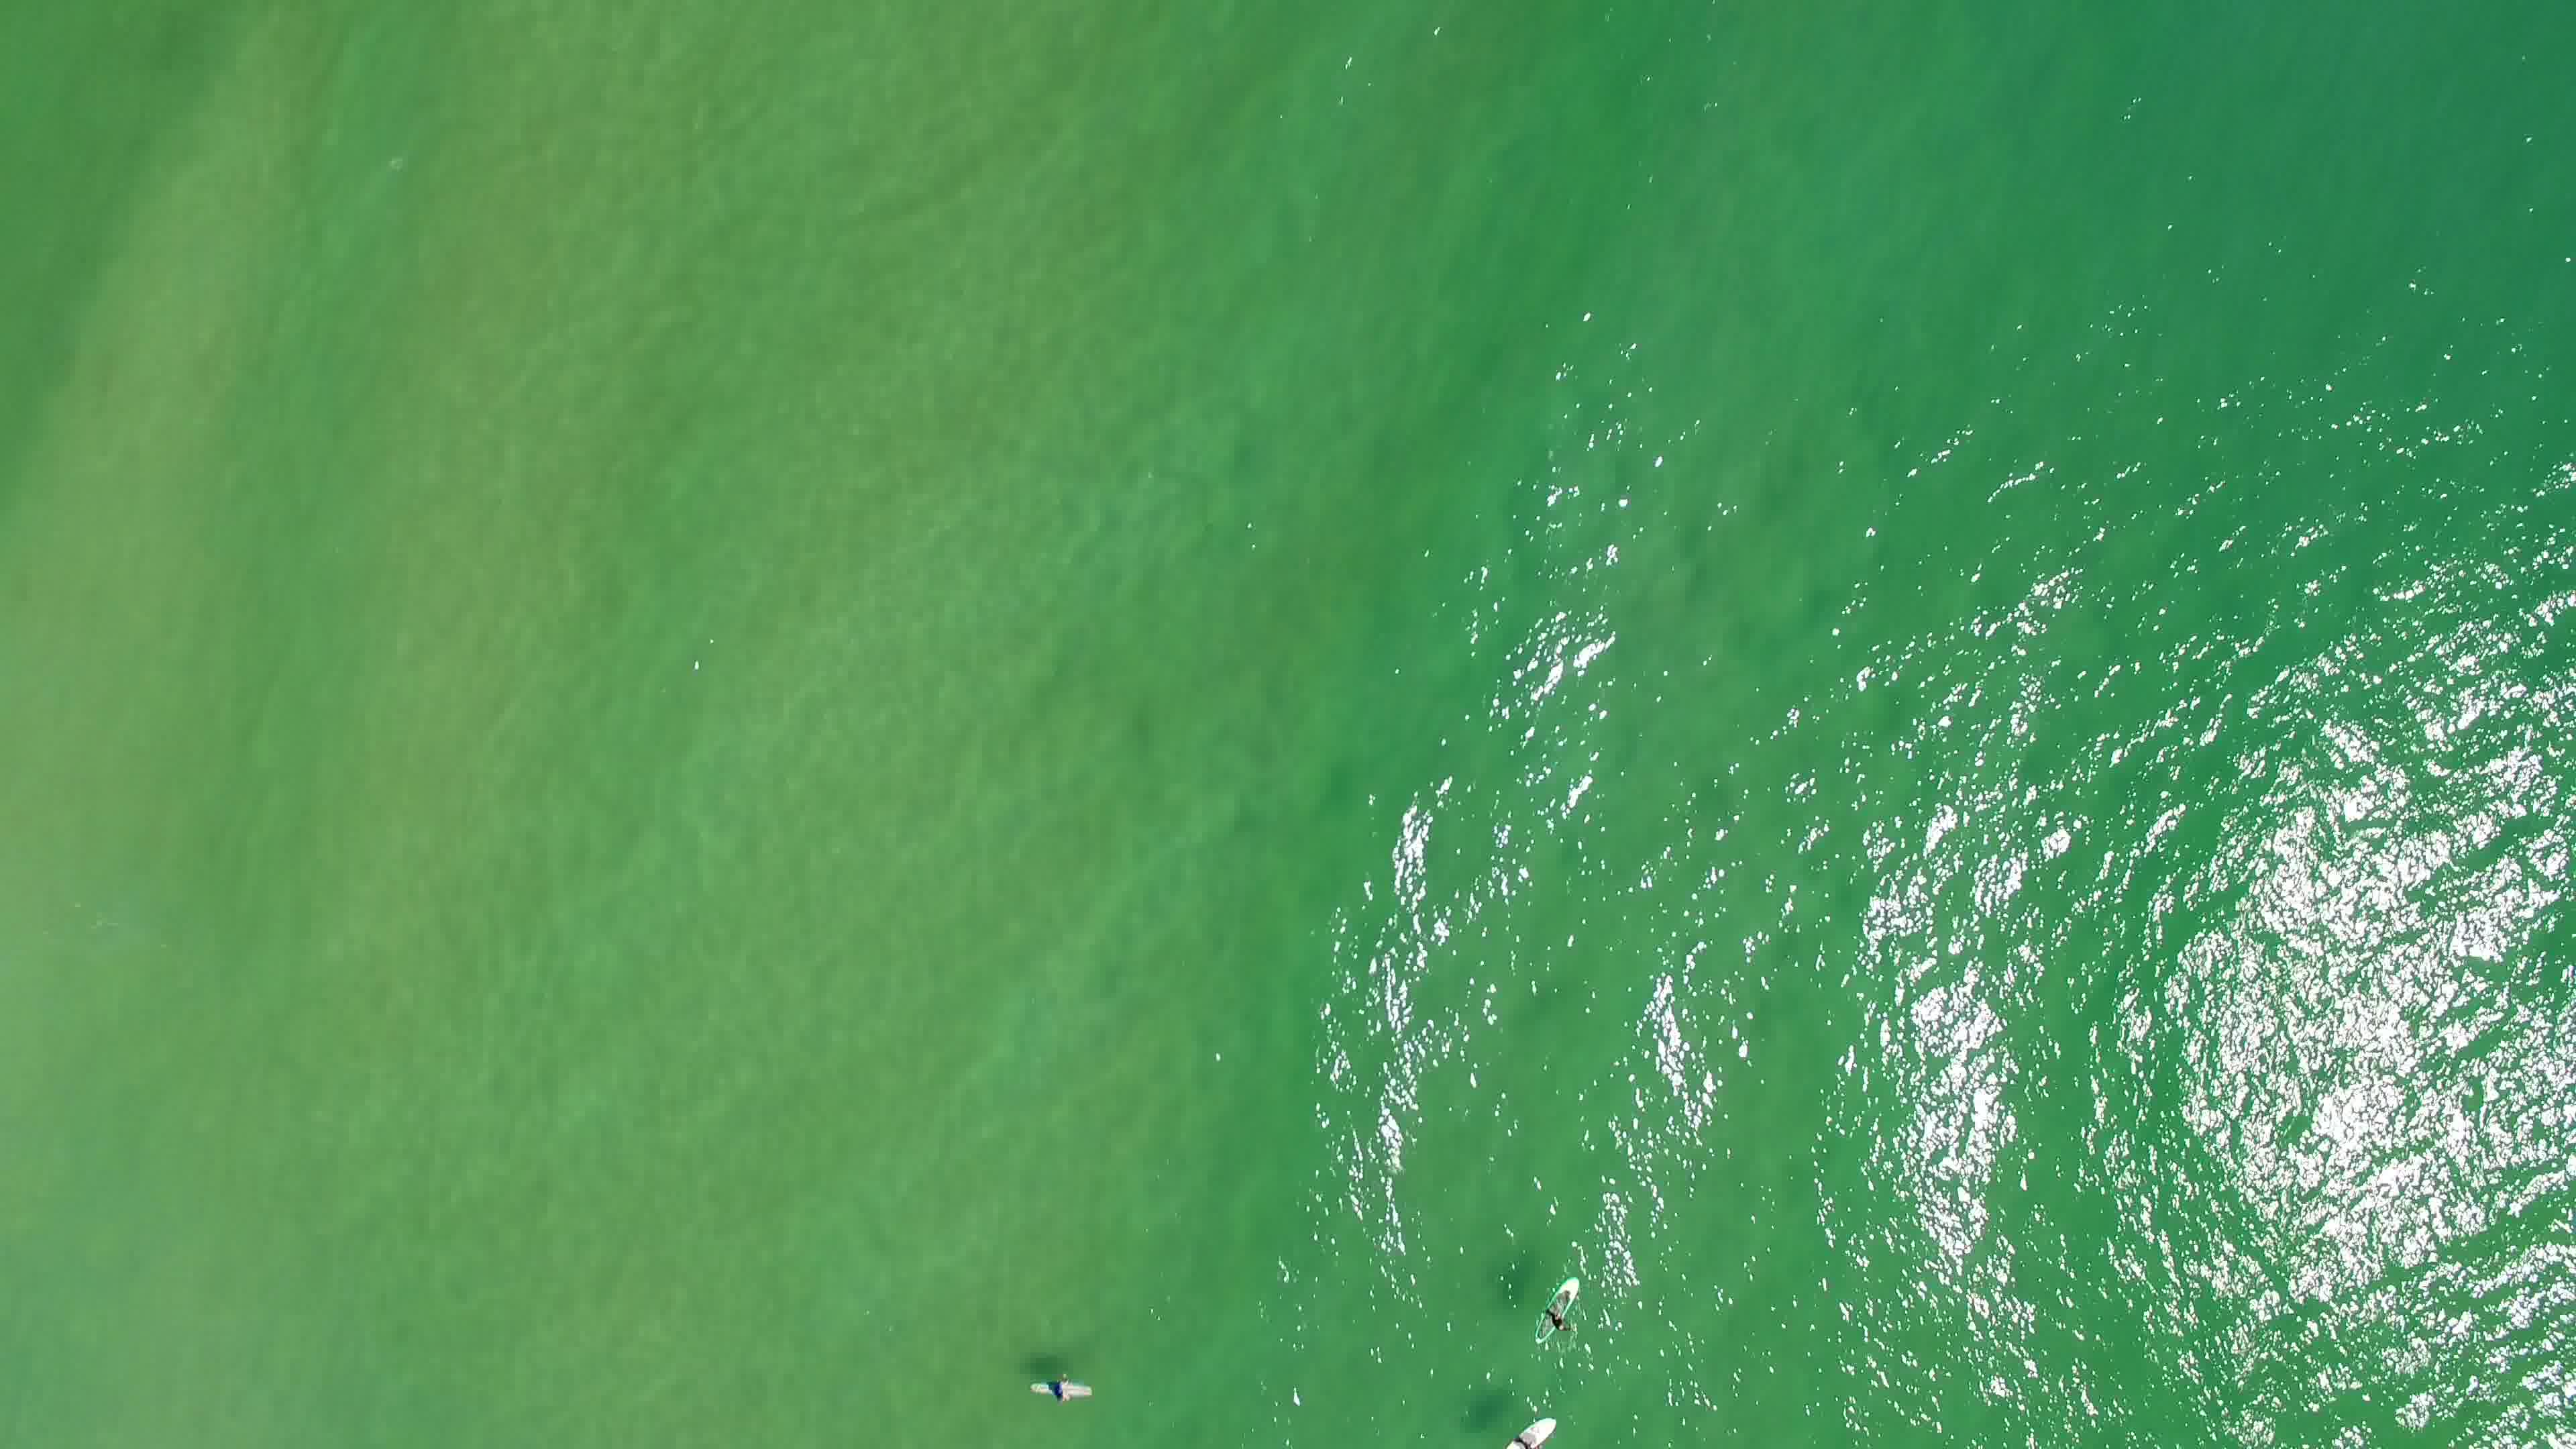surfer: (1529, 1274, 1587, 1343), (1021, 1361, 1097, 1405), (1506, 1412, 1560, 1449)
